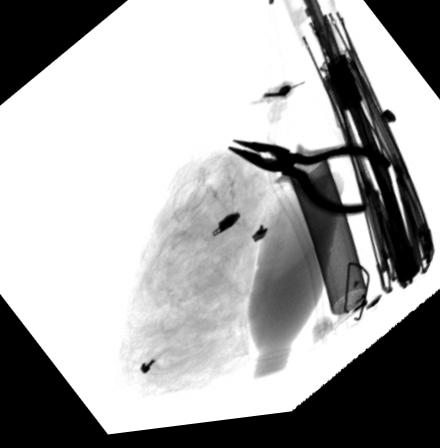Pliers: (225, 143, 392, 227)
